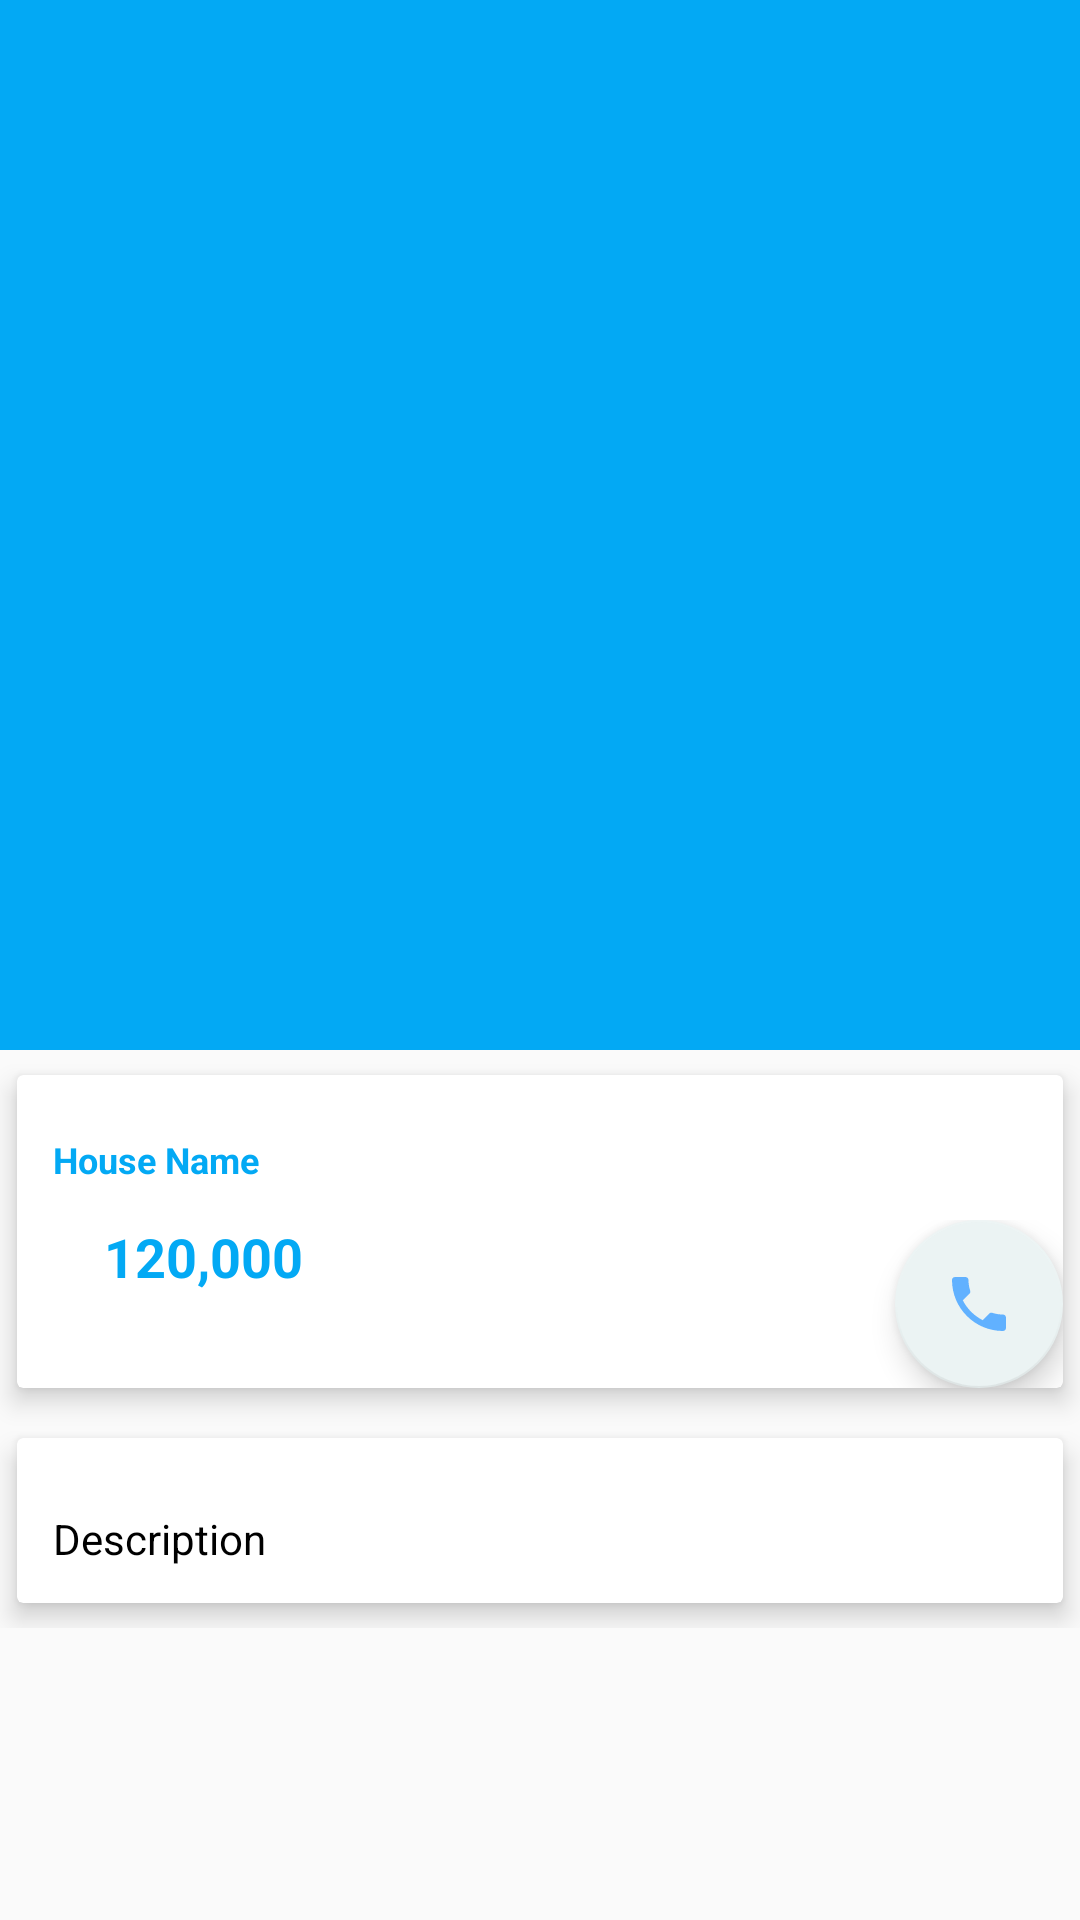

Point at icon controls on the screen. Image size 1080 × 1920, points as [x,y].
call: [979,1304]
